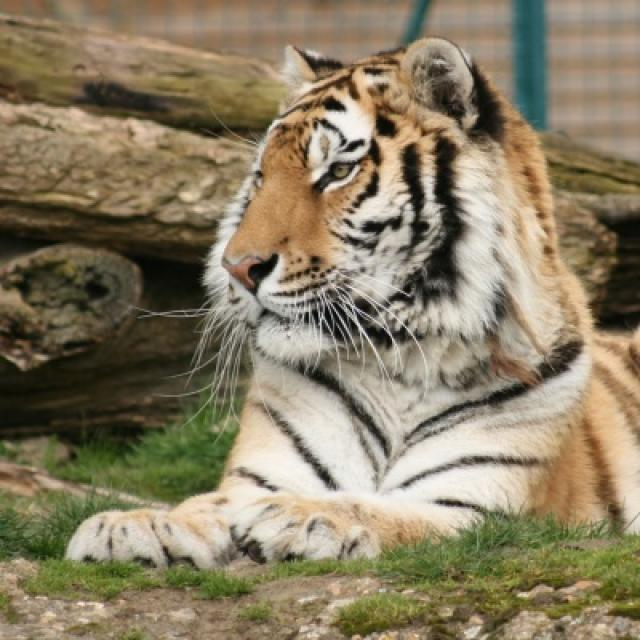Tiger: (66, 29, 638, 566)
